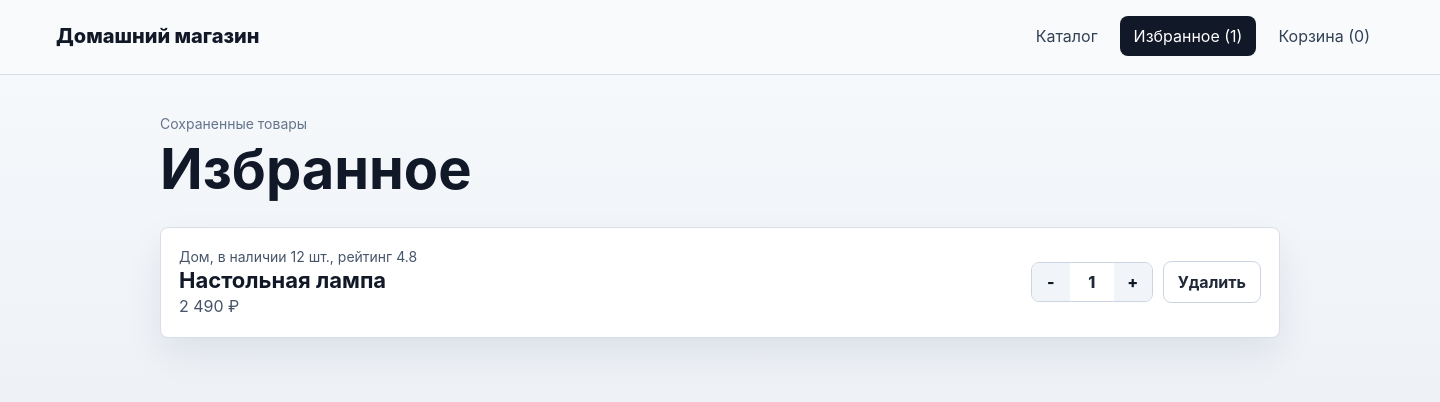
it: удаляет товар из избранного и обновляет localStorage
This screenshot has width=1440, height=402.
Expected: the heading "Настольная лампа" is shown, [179, 268, 417, 294]
Click the button "Удалить" at (1212, 282), box [1163, 261, 1261, 303]
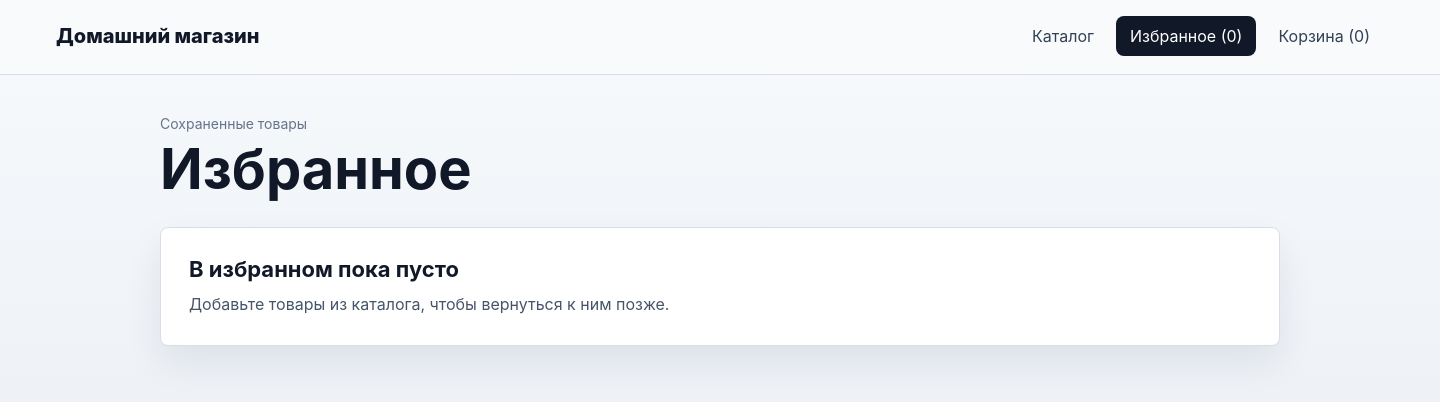
Expected: the heading "В избранном пока пусто" is shown, [189, 256, 459, 282]
